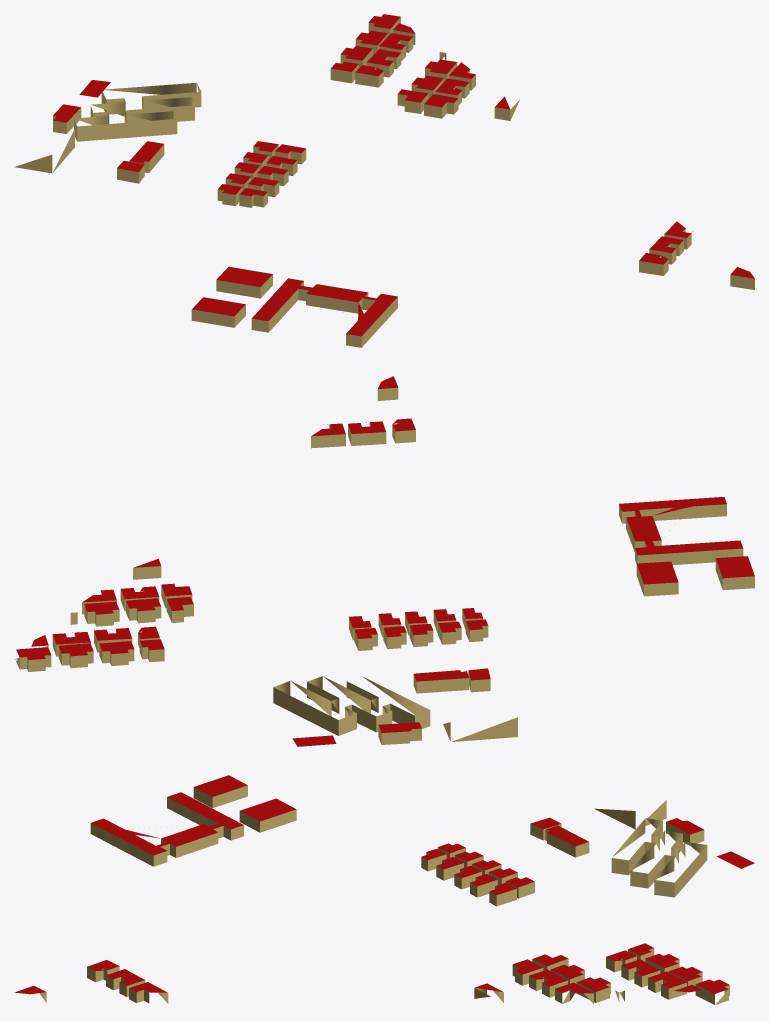
3 views of the same model, one above another, from view 1: azimuth 30°, elevation 25°; view 2: azimuth 150°, elevation 25°; view 3: azimuth 270°, elevation 25° (orthographic). The views are drawn at different scales.
Bounding box in the file's own units: 318 × 12.5 × 450.
